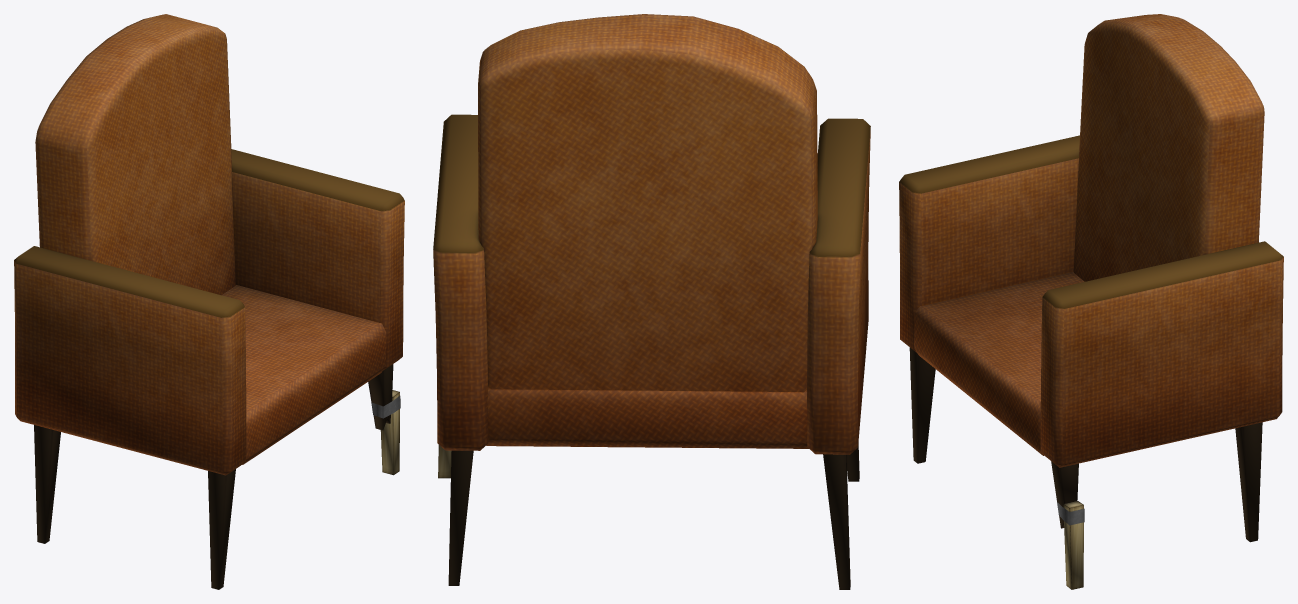
File: chaira.glb
The picture shows the model from 3 angles, left to right: view 1: azimuth 30°, elevation 25°; view 2: azimuth 150°, elevation 25°; view 3: azimuth 270°, elevation 25°; orthographic projection. The views are drawn at different scales.
Parts seen in each view (by area): view 1: chair_a_stm; view 2: chair_a_stm; view 3: chair_a_stm.
Boxes of the visible parts, box(x1,y1,x2,y2) form: chair_a_stm: box(14, 14, 404, 589); chair_a_stm: box(433, 14, 870, 589); chair_a_stm: box(899, 14, 1283, 589).
Bounding box in the file's own units: 0.9395 × 1.11 × 0.8573.
1 material, 1 textured.
